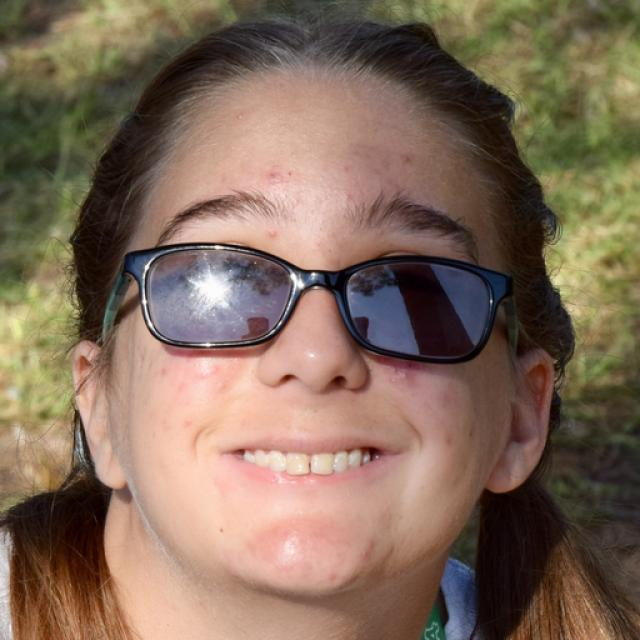Acne: (259, 221, 286, 248), (198, 361, 223, 388), (392, 365, 418, 387), (215, 375, 236, 401), (228, 108, 252, 129), (266, 170, 284, 187)
